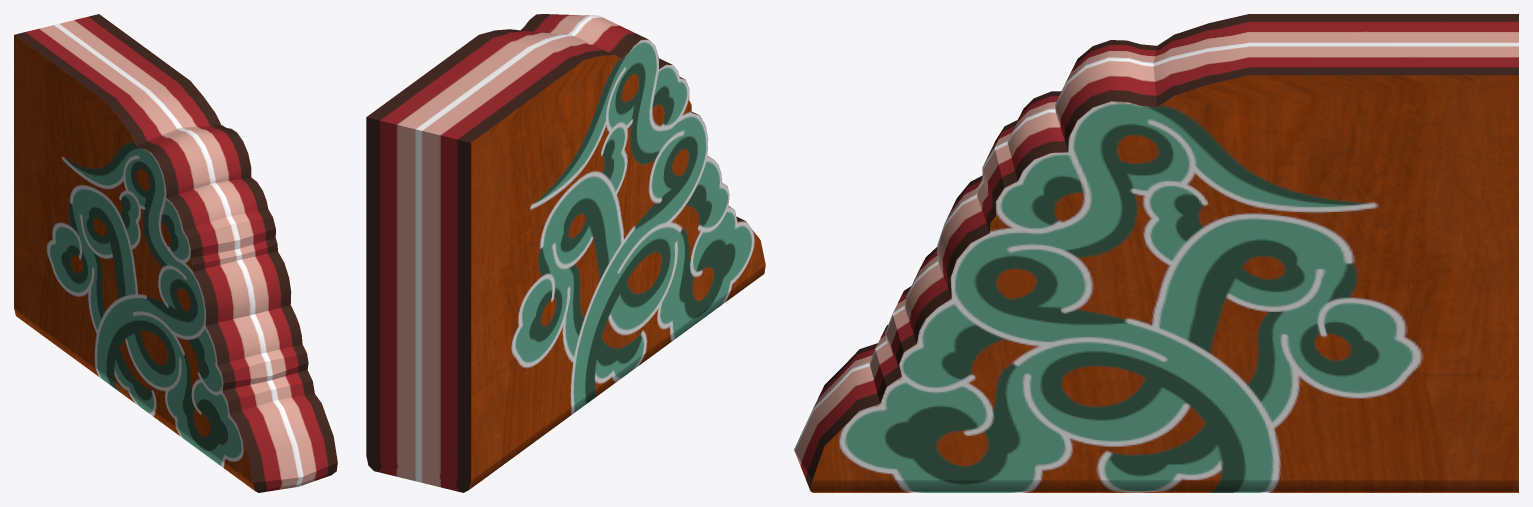
Rendered from SM_Gongpo04H.fbx.
3 renders of one model, left to right at view 1: azimuth 30°, elevation 25°; view 2: azimuth 150°, elevation 25°; view 3: azimuth 270°, elevation 25°, orthographic. The views are drawn at different scales.
Parts seen in each view (by area): view 1: SM_Gongpo04H; view 2: SM_Gongpo04H; view 3: SM_Gongpo04H.
Part boxes in pixels (<box>): SM_Gongpo04H: <box>14,14,337,492</box>; SM_Gongpo04H: <box>366,14,765,492</box>; SM_Gongpo04H: <box>794,14,1518,492</box>.
Size of the model in its own units: 12.58 by 62.74 by 40.29.
